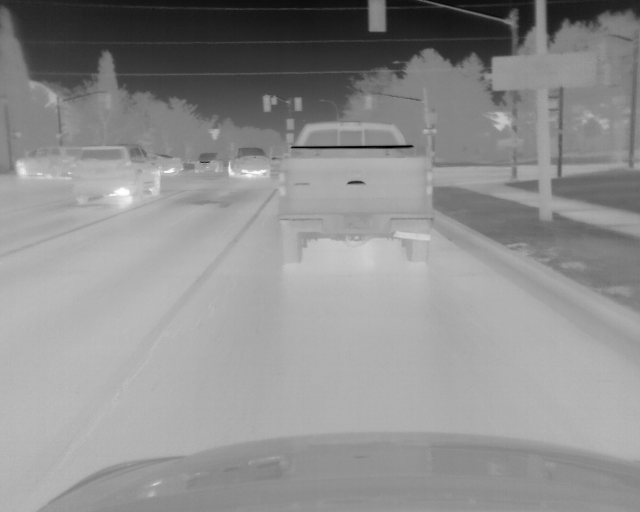car: (276, 121, 433, 263), (73, 140, 161, 209), (13, 143, 76, 181), (227, 147, 270, 178), (153, 152, 184, 175), (194, 151, 222, 173)
